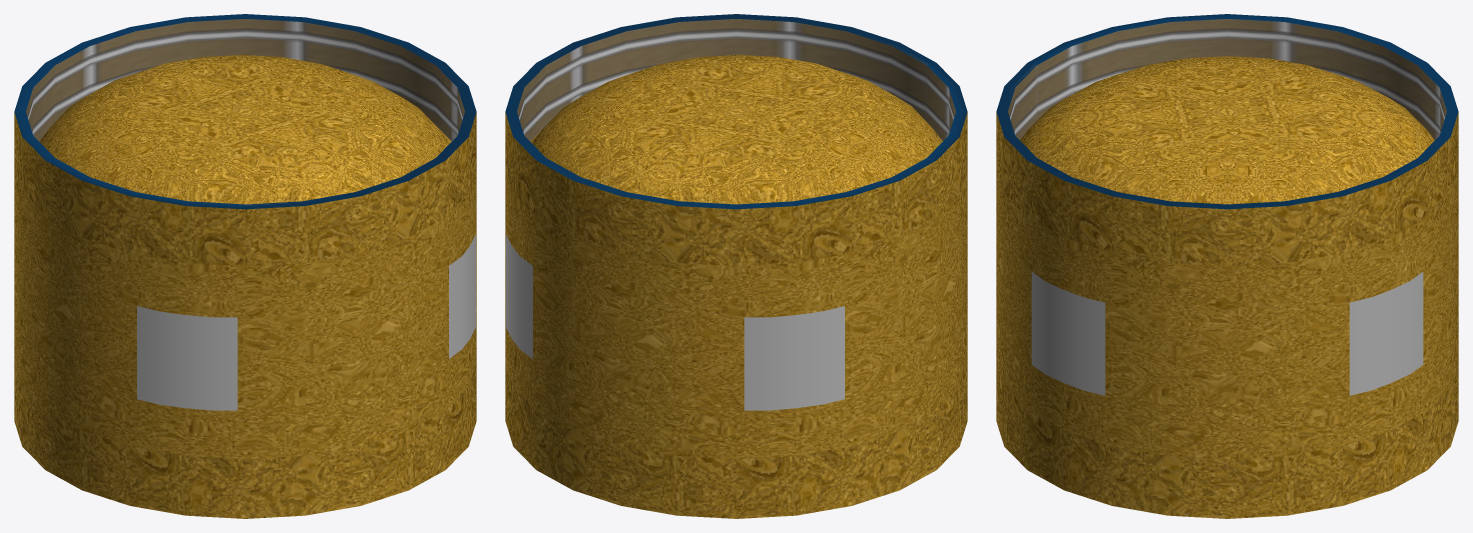
File: FLM-3600MG.FBX
3 renders of one model, left to right at view 1: azimuth 30°, elevation 25°; view 2: azimuth 150°, elevation 25°; view 3: azimuth 270°, elevation 25°, orthographic.
Visible parts, largest first — view 1: TankBody, TankSleeve001, EndCap001, TankSleeve002, decalPanel002, decalPanel001; view 2: TankBody, TankSleeve001, EndCap001, TankSleeve002, decalPanel003, decalPanel004; view 3: TankBody, TankSleeve001, EndCap001, TankSleeve002, decalPanel001, decalPanel004.
Boxes of the visible parts, box(x1,y1,x2,y2) form: TankBody: box(14, 169, 476, 459); TankSleeve001: box(14, 14, 476, 266); EndCap001: box(39, 55, 451, 204); TankSleeve002: box(14, 362, 476, 518); decalPanel002: box(137, 306, 237, 410); decalPanel001: box(449, 234, 475, 358); TankBody: box(505, 169, 967, 459); TankSleeve001: box(505, 14, 967, 266); EndCap001: box(530, 55, 942, 204); TankSleeve002: box(505, 362, 967, 518); decalPanel003: box(744, 306, 844, 410); decalPanel004: box(506, 234, 532, 358); TankBody: box(996, 169, 1458, 459); TankSleeve001: box(996, 14, 1458, 266); EndCap001: box(1020, 56, 1434, 204); TankSleeve002: box(996, 362, 1458, 518); decalPanel001: box(1031, 272, 1105, 395); decalPanel004: box(1349, 272, 1423, 395).
Size of what is drawn, in the model's own units: 2.5 by 2.5 by 1.85.
